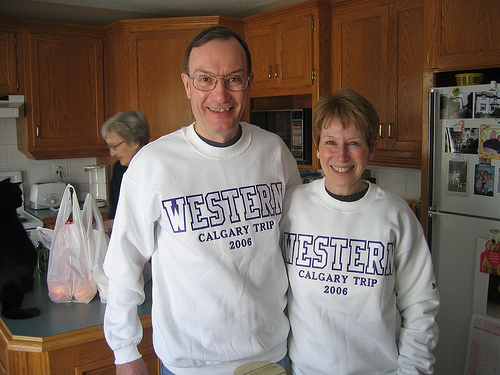without_mask: (184, 41, 252, 138), (310, 114, 377, 187), (100, 120, 140, 168)
